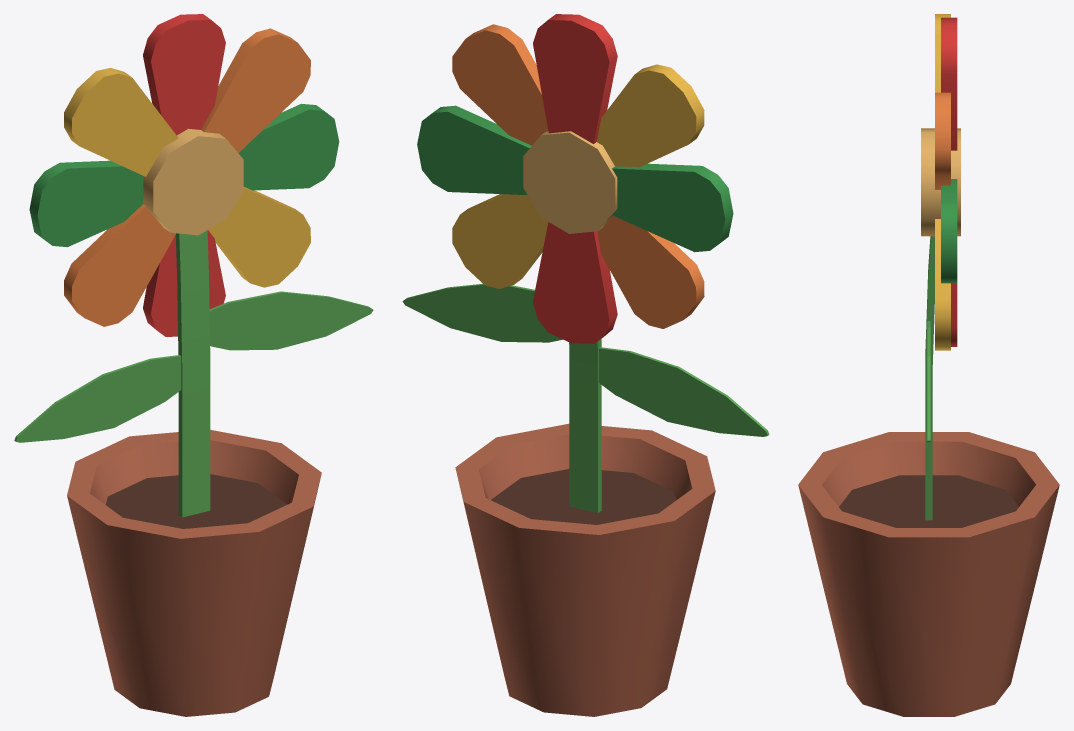
The model's file is FlowerPot_01.fbx.
3 renders of one model, left to right at view 1: azimuth 30°, elevation 25°; view 2: azimuth 150°, elevation 25°; view 3: azimuth 270°, elevation 25°, orthographic. The views are drawn at different scales.
Visible parts, largest first — view 1: FlowerPot_01; view 2: FlowerPot_01; view 3: FlowerPot_01.
Part boxes in pixels (left/top/right/bottom): FlowerPot_01: left=14, top=14, right=373, bottom=716; FlowerPot_01: left=402, top=14, right=769, bottom=716; FlowerPot_01: left=798, top=14, right=1059, bottom=716.
Size of the model in its own units: 0.2558 by 0.4492 by 0.1614.
